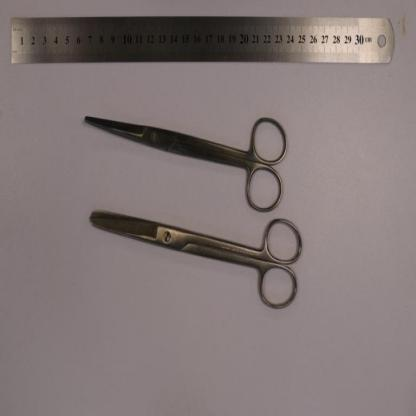Curved Mayo Scissors: (83, 114, 290, 216)
Dressing Scissors: (89, 209, 305, 311)
